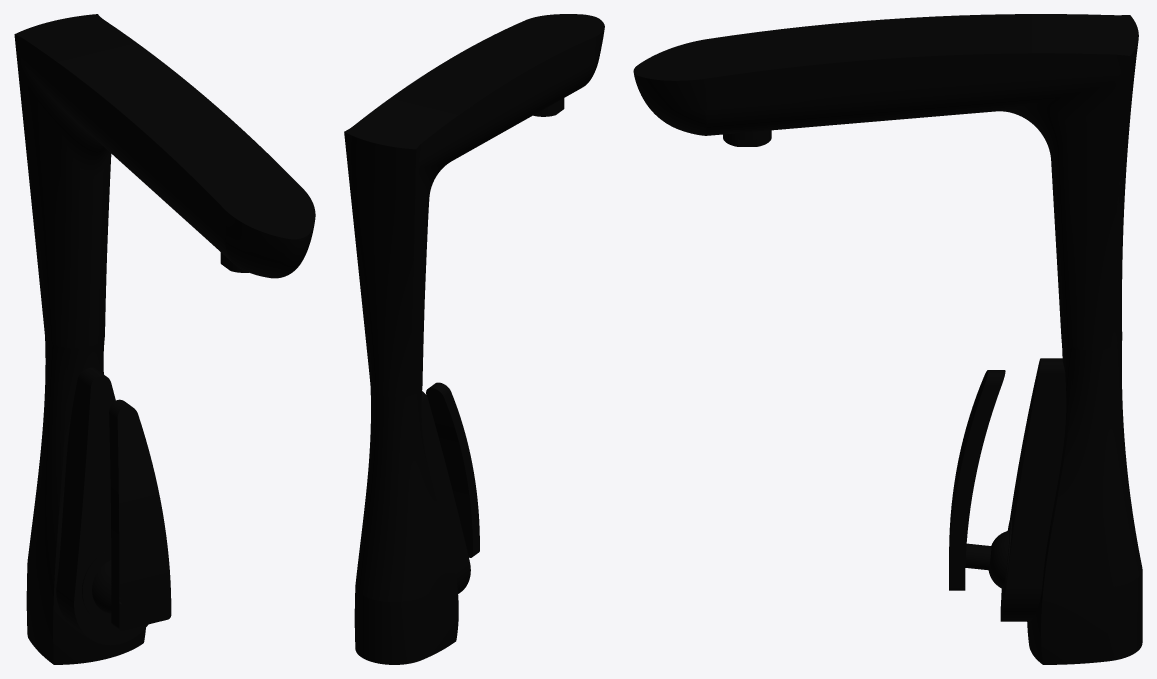
3 views of the same model, side by side, from view 1: azimuth 30°, elevation 25°; view 2: azimuth 150°, elevation 25°; view 3: azimuth 270°, elevation 25° (orthographic). The views are drawn at different scales.
Visible parts, largest first — view 1: node_id4; view 2: node_id4; view 3: node_id4.
Part boxes in pixels (bbox=[...]): node_id4: bbox=[14, 14, 315, 664]; node_id4: bbox=[344, 14, 604, 664]; node_id4: bbox=[633, 14, 1142, 664].
Size of the model in its own units: 0.0837 by 0.512 by 0.3879.
1 material, 1 textured.
